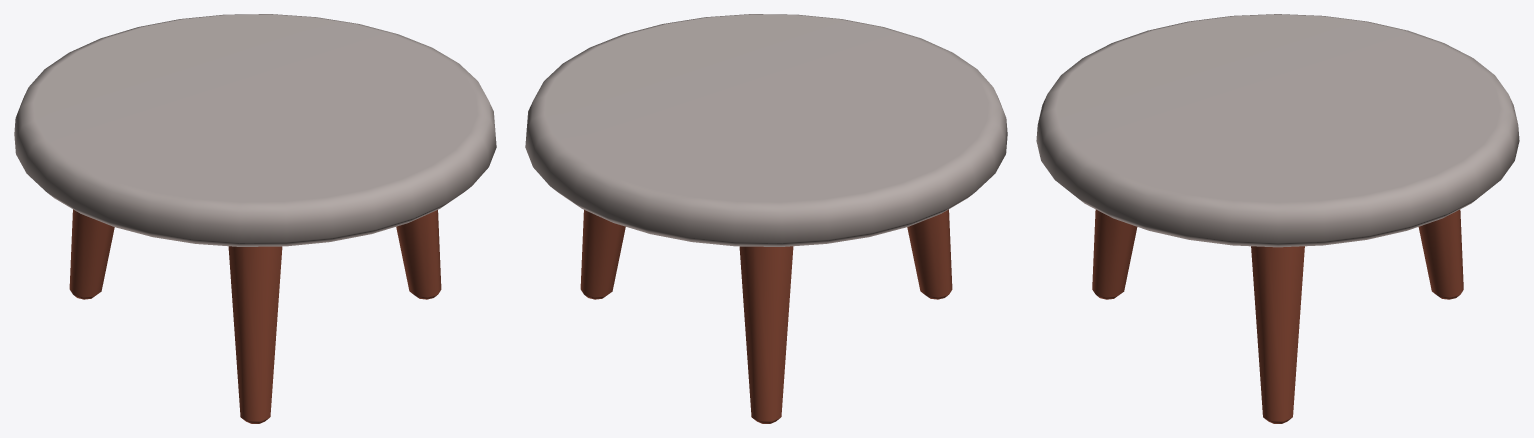
Rendered from Coffee_Table_001.fbx.
3 renders of one model, left to right at view 1: azimuth 30°, elevation 25°; view 2: azimuth 150°, elevation 25°; view 3: azimuth 270°, elevation 25°, orthographic.
Visible parts, largest first — view 1: Coffee_Table_001; view 2: Coffee_Table_001; view 3: Coffee_Table_001.
Boxes of the visible parts, x1,y1,x2,y2 form: Coffee_Table_001: (14,14,496,423); Coffee_Table_001: (525,14,1007,423); Coffee_Table_001: (1036,14,1519,423).
Size of the model in its own units: 0.8041 by 0.4234 by 0.8041.
